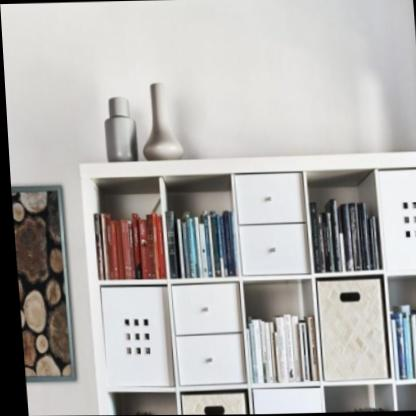Shelf: (72, 151, 416, 416)
